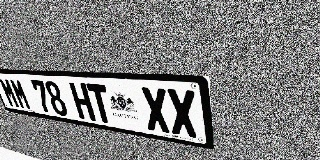7: (30, 80, 54, 114)
8: (43, 81, 69, 117)
H: (69, 82, 96, 121)
M: (9, 78, 32, 110), (0, 78, 21, 108)
T: (86, 83, 114, 124)
X: (166, 89, 199, 138), (140, 87, 171, 134)
